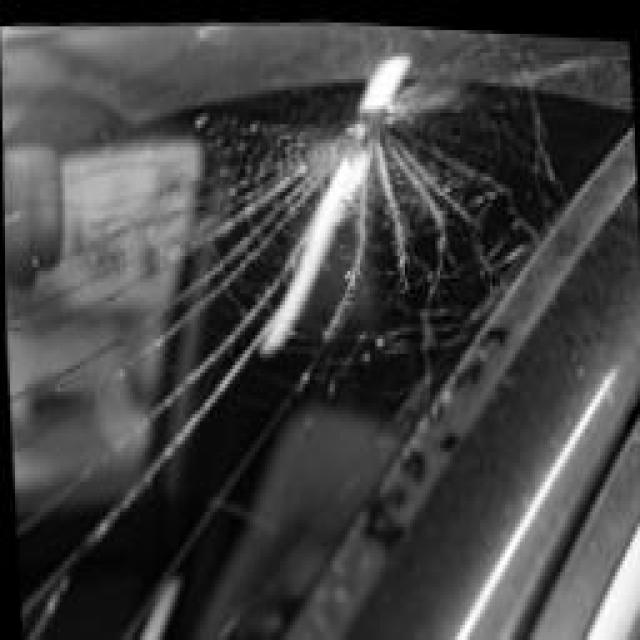Windshield: (0, 0, 517, 640)
